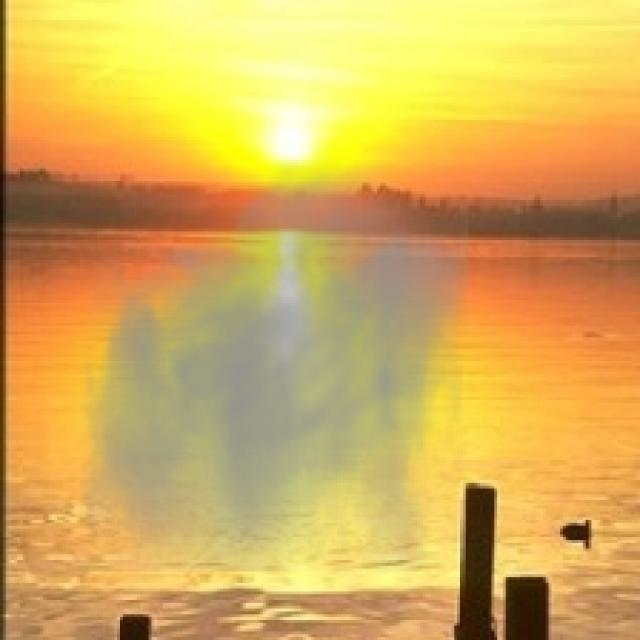smoke: (80, 148, 469, 572)
